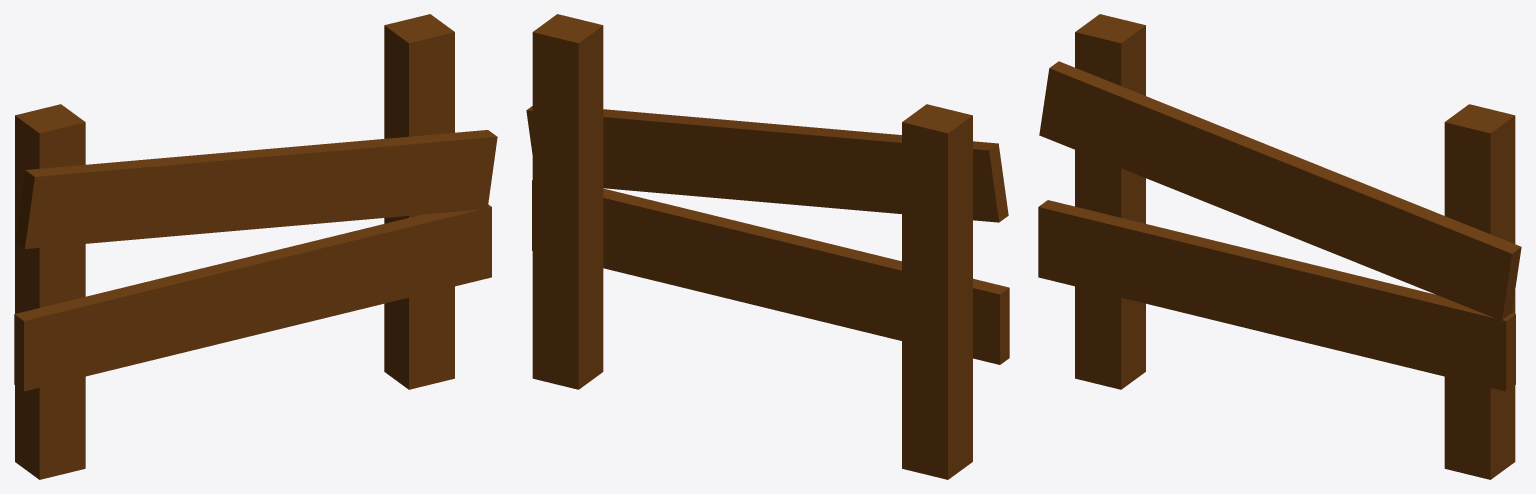
Rendered from fence3.fbx.
3 views of the same model, side by side, from view 1: azimuth 30°, elevation 25°; view 2: azimuth 150°, elevation 25°; view 3: azimuth 330°, elevation 25° (orthographic).
Visible parts, largest first — view 1: Plane.001, Plane, Cube.002, Cube.001; view 2: Plane.001, Plane, Cube.001, Cube.002; view 3: Plane, Plane.001, Cube.001, Cube.002.
Part boxes in pixels (<box>): Plane.001: <box>14,204,491,391</box>; Plane: <box>15,130,497,248</box>; Cube.002: <box>15,104,85,479</box>; Cube.001: <box>384,14,454,389</box>; Plane.001: <box>532,180,1009,364</box>; Plane: <box>526,106,1008,222</box>; Cube.001: <box>532,14,603,389</box>; Cube.002: <box>902,104,972,479</box>; Plane: <box>1039,61,1521,319</box>; Plane.001: <box>1038,200,1515,391</box>; Cube.001: <box>1444,104,1515,479</box>; Cube.002: <box>1075,14,1145,389</box>.
Size of the model in its own units: 286 by 200 by 36.89.
